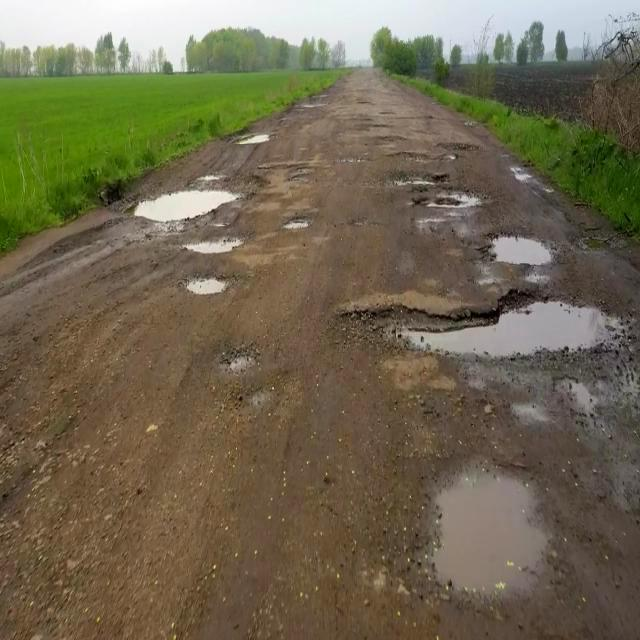Pothole: (398, 294, 626, 366), (176, 222, 256, 300), (380, 158, 459, 230), (126, 192, 243, 225), (484, 230, 560, 280)
